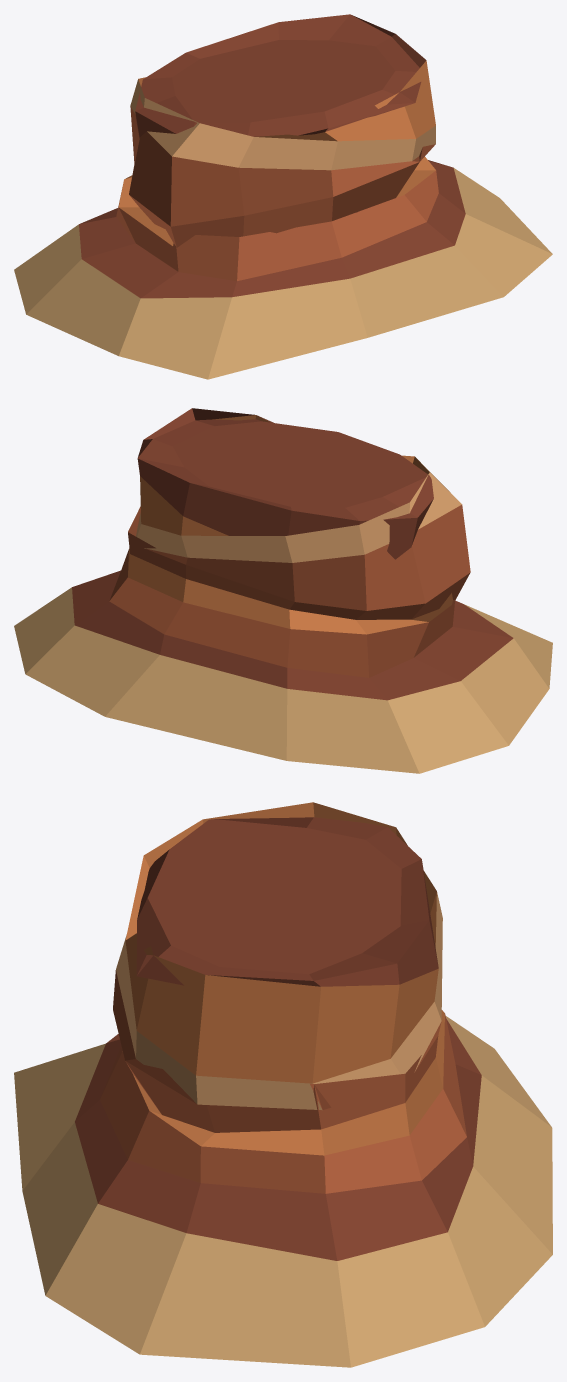
Rendered from SM_Mesa_A.fbx.
3 views of the same model, one above another, from view 1: azimuth 30°, elevation 25°; view 2: azimuth 150°, elevation 25°; view 3: azimuth 270°, elevation 25° (orthographic). The views are drawn at different scales.
Visible parts, largest first — view 1: Mesa_A; view 2: Mesa_A; view 3: Mesa_A.
Boxes of the visible parts, left/top/right/bottom form: Mesa_A: left=14, top=14, right=552, bottom=379; Mesa_A: left=14, top=408, right=552, bottom=773; Mesa_A: left=14, top=802, right=552, bottom=1367.
Size of the model in its own units: 9078 by 5979 by 3749.
